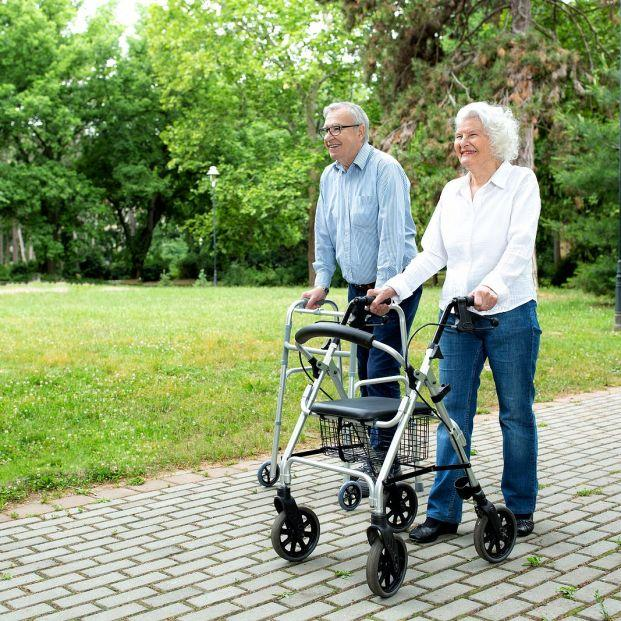walking_frame: (271, 101, 542, 598), (258, 102, 424, 492)
